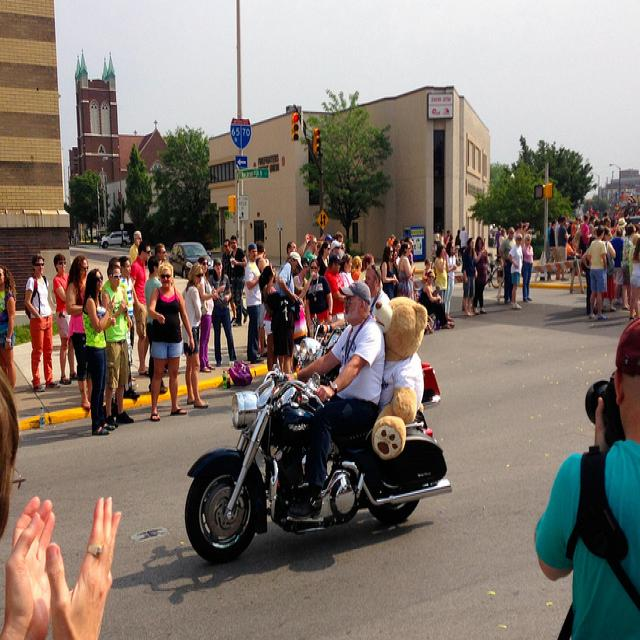motor: (186, 368, 453, 566)
